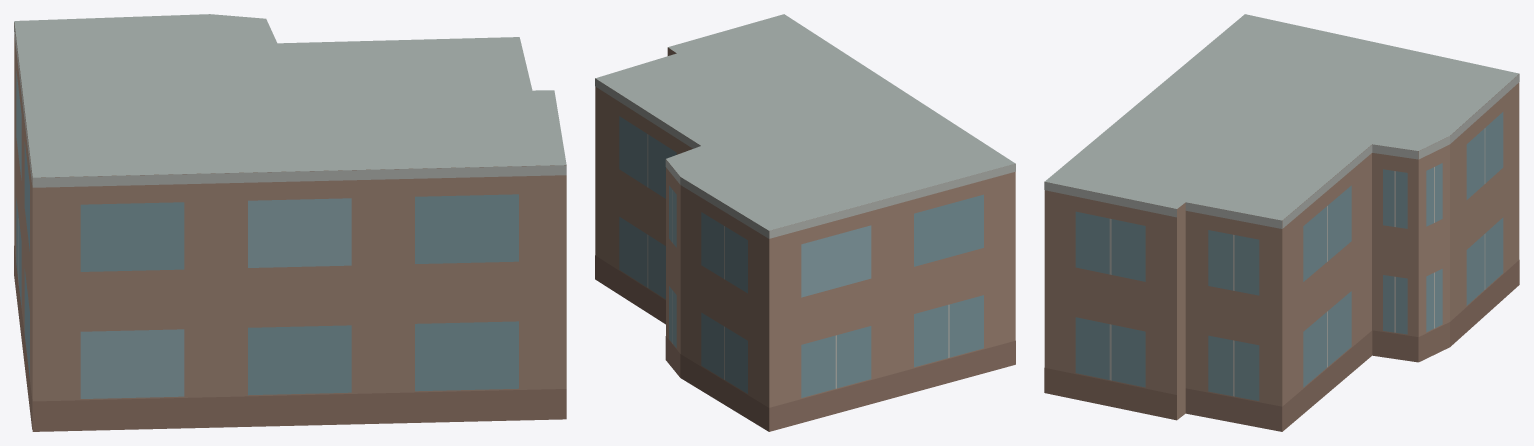
File: survey-upis-32540321.glb
The picture shows the model from 3 angles, left to right: view 1: azimuth 30°, elevation 25°; view 2: azimuth 150°, elevation 25°; view 3: azimuth 270°, elevation 25°; orthographic projection. The views are drawn at different scales.
Visible parts, largest first — view 1: survey-upis-32540321.tmp; view 2: survey-upis-32540321.tmp; view 3: survey-upis-32540321.tmp.
Part boxes in pixels (box(x1,y1,x2,y2)): survey-upis-32540321.tmp: box(14, 14, 566, 431); survey-upis-32540321.tmp: box(595, 14, 1015, 431); survey-upis-32540321.tmp: box(1044, 14, 1519, 431).
Bounding box in the file's own units: 12.8 × 6.1 × 12.44.
